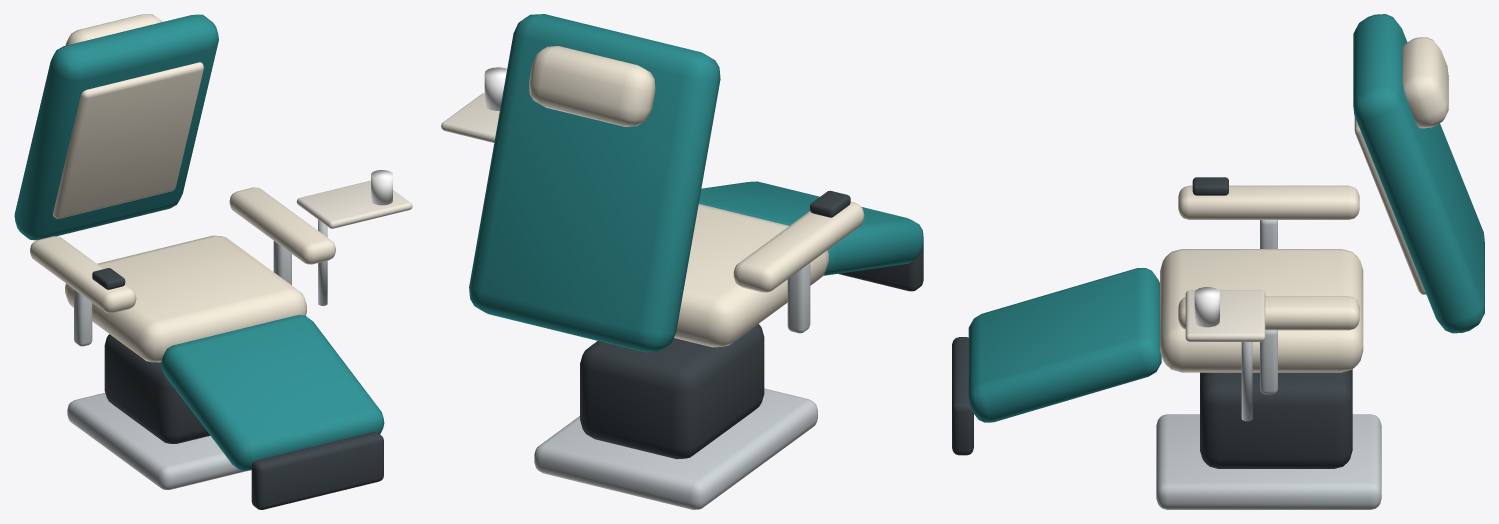
The model's file is TreatmentRecliner_advanced.glb.
3 renders of one model, left to right at view 1: azimuth 30°, elevation 25°; view 2: azimuth 150°, elevation 25°; view 3: azimuth 270°, elevation 25°, orthographic. The views are drawn at different scales.
Visible parts, largest first — view 1: TreatmentRecliner_advanced; view 2: TreatmentRecliner_advanced; view 3: TreatmentRecliner_advanced.
Boxes of the visible parts, <box> form: TreatmentRecliner_advanced: <box>14,14,412,509</box>; TreatmentRecliner_advanced: <box>441,14,923,509</box>; TreatmentRecliner_advanced: <box>952,14,1484,509</box>.
Size of the model in its own units: 1.12 by 1.29 by 1.47.
